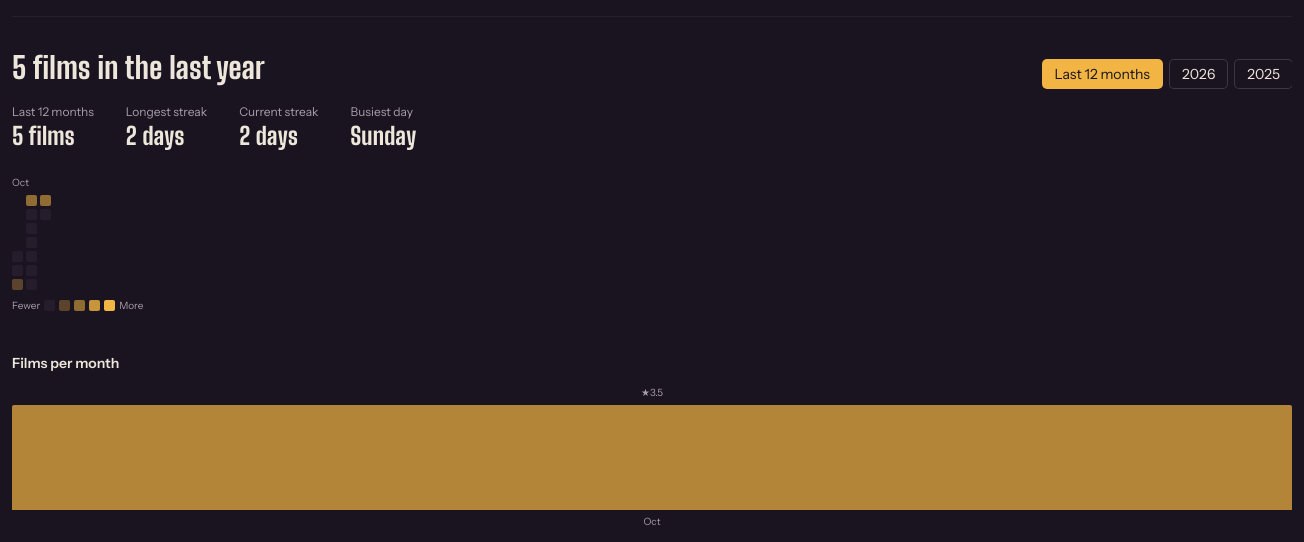
Test: diary stats › asks for another year when one is chosen
Expected: the heading "5 films in the last year" is shown, [12, 49, 265, 85]
Click the button "2025" at (1264, 74), box [1235, 60, 1292, 88]
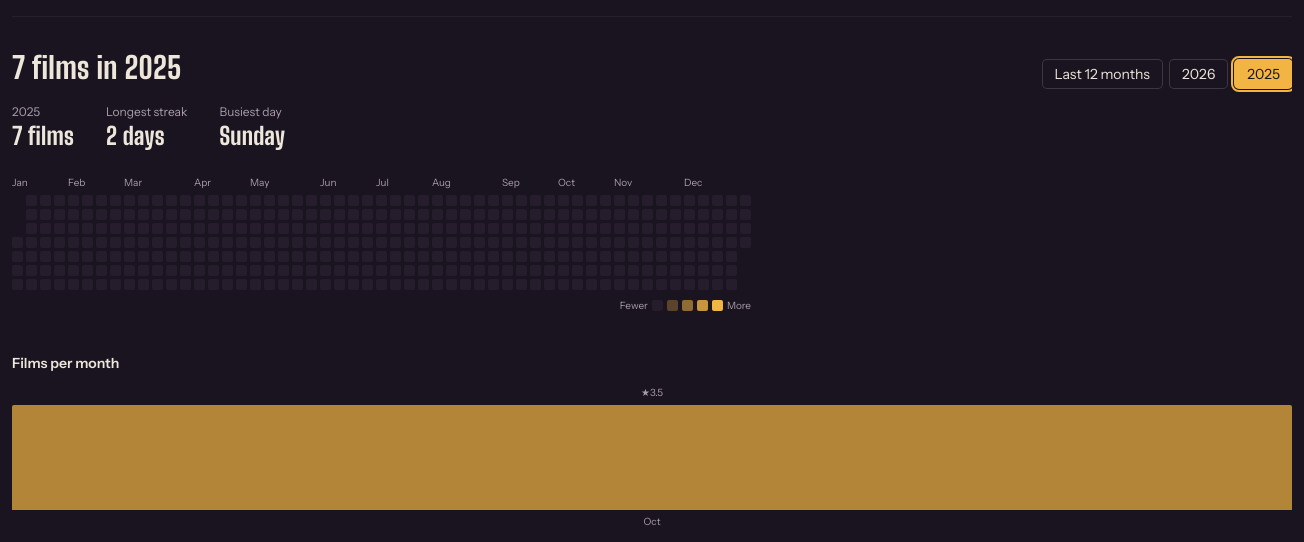
Expected: the heading "7 films in 2025" is shown, [12, 49, 182, 85]
Expected: the text "Current streak" is gone
